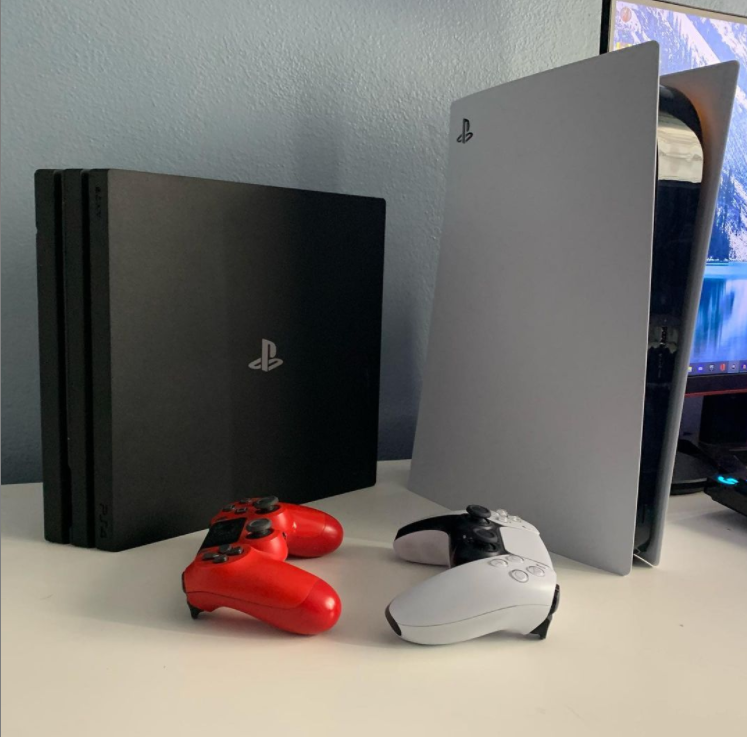gamingconsole: (385, 505, 561, 651), (185, 495, 341, 636)
